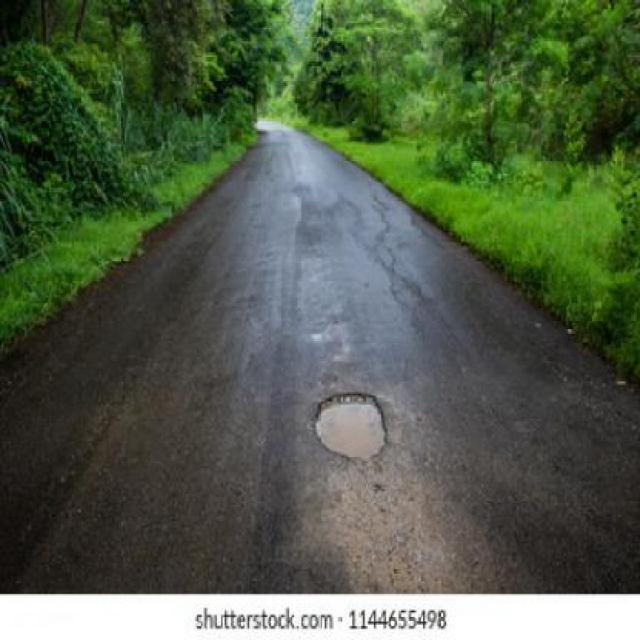Buraco: (308, 391, 391, 475)
